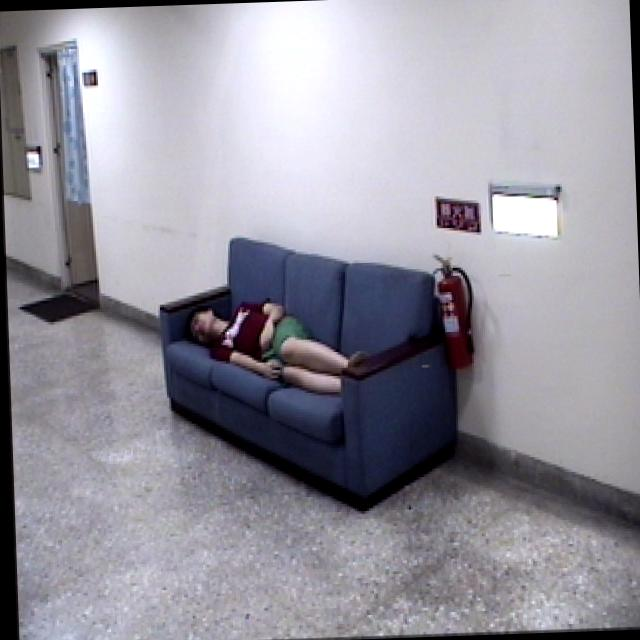lie: (179, 290, 372, 400)
